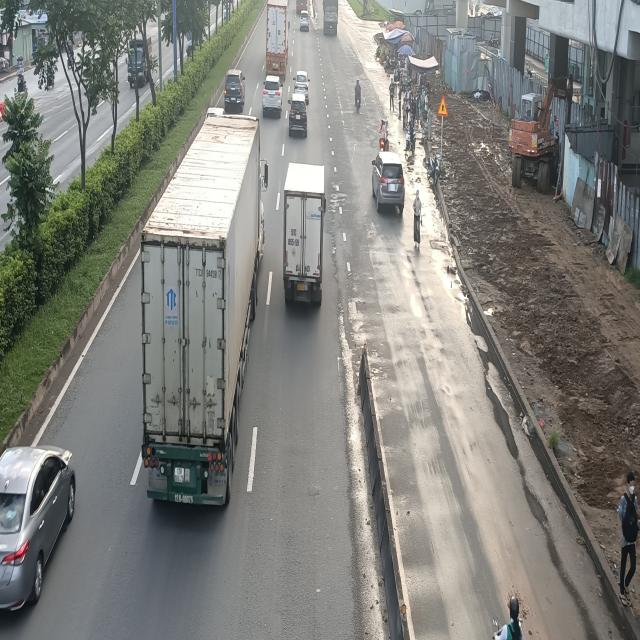car: (0, 447, 74, 614), (369, 154, 404, 216), (222, 71, 245, 115), (262, 76, 284, 120), (289, 93, 307, 134)
container: (136, 112, 263, 510), (266, 1, 290, 74)
truck: (280, 164, 326, 310)
